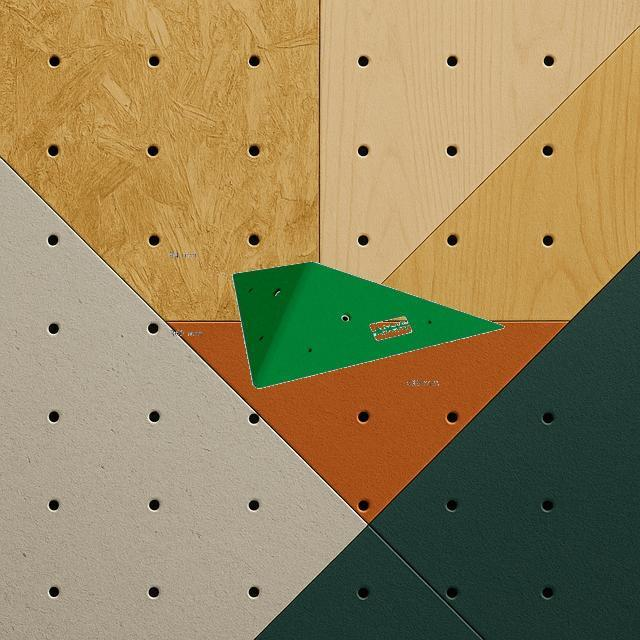Volume: (232, 260, 506, 388)
